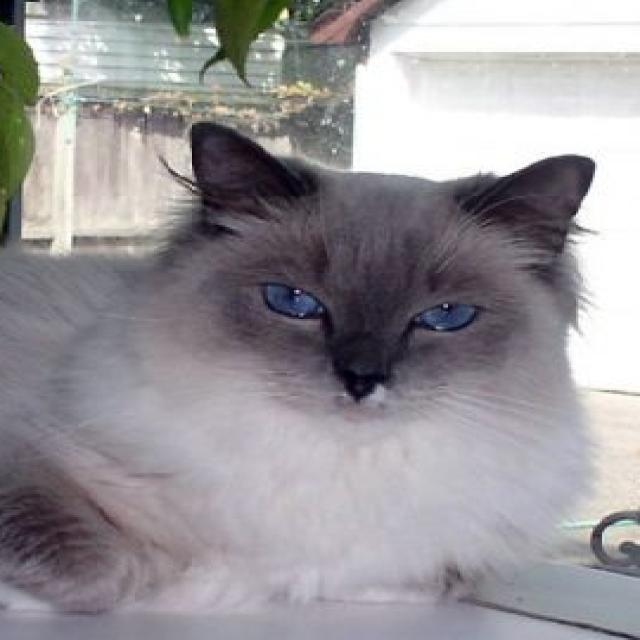Ragdoll: (0, 113, 607, 621)
